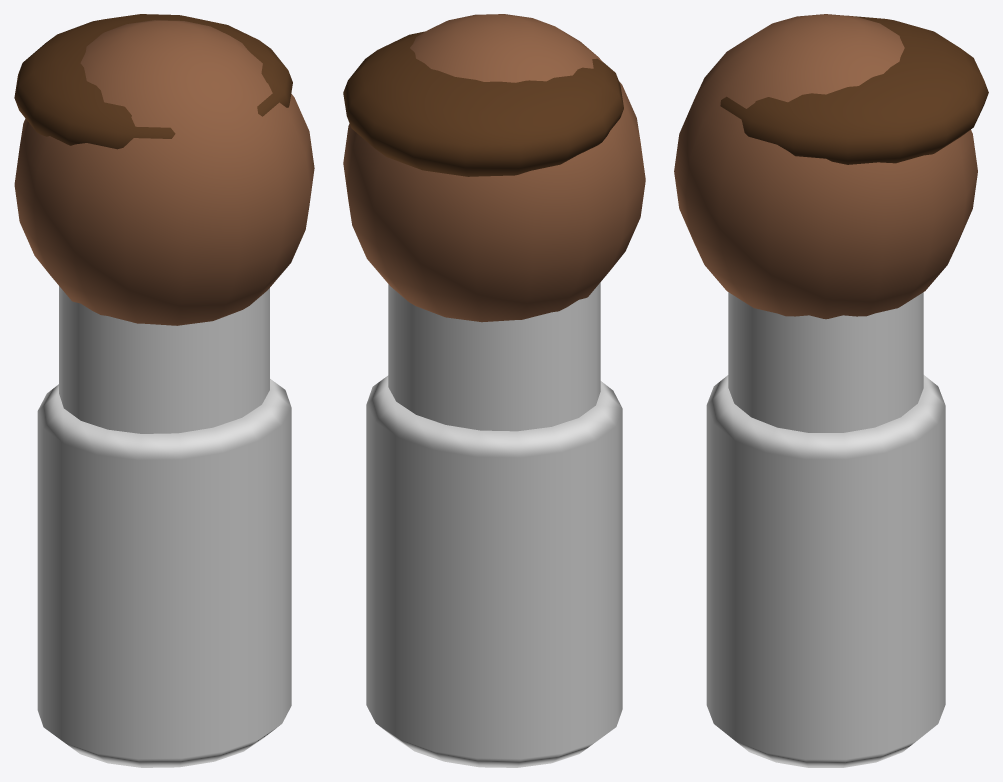
File: child.13a4078a.glb
3 views of the same model, side by side, from view 1: azimuth 30°, elevation 25°; view 2: azimuth 150°, elevation 25°; view 3: azimuth 270°, elevation 25° (orthographic).
Visible parts, largest first — view 1: accent, body; view 2: accent, body; view 3: accent, body.
Part boxes in pixels (left/top/right/bottom): accent: left=37, top=286, right=291, bottom=767; body: left=14, top=14, right=314, bottom=325; accent: left=366, top=282, right=622, bottom=767; body: left=343, top=14, right=645, bottom=322; accent: left=706, top=292, right=945, bottom=767; body: left=674, top=14, right=988, bottom=319.
Size of the model in its own units: 0.28 by 0.707 by 0.29.
